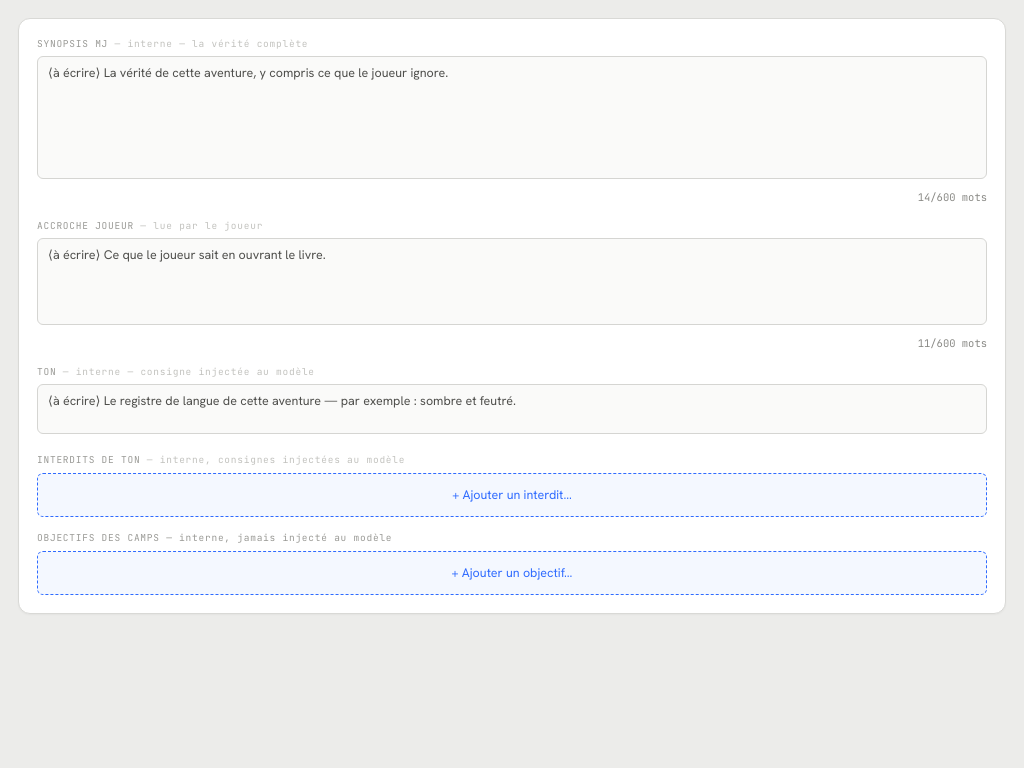
PanneauCanon › synopsis vide puis blur: refus, aucun revert, bandeau affiche
Step 1. Clear the text box labelled "SYNOPSIS MJ — interne — la vérité complète" → (512,117), box [37,56,987,179]
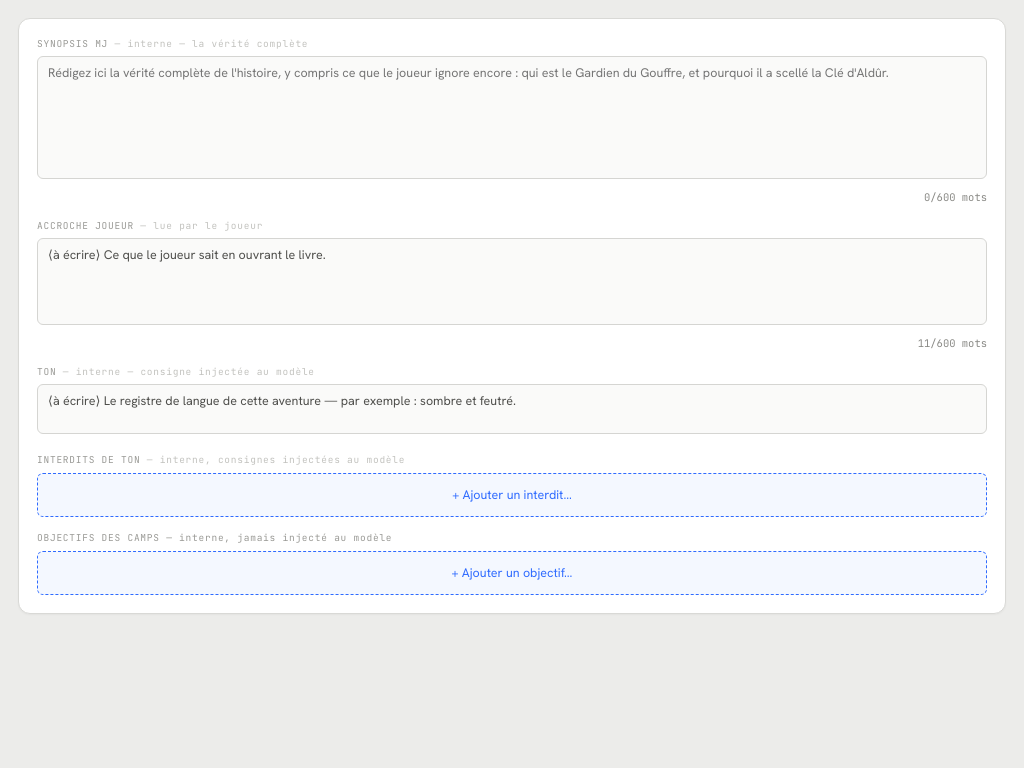
Step 2. Leave the text box labelled "SYNOPSIS MJ — interne — la vérité complète", box [37,56,987,179]
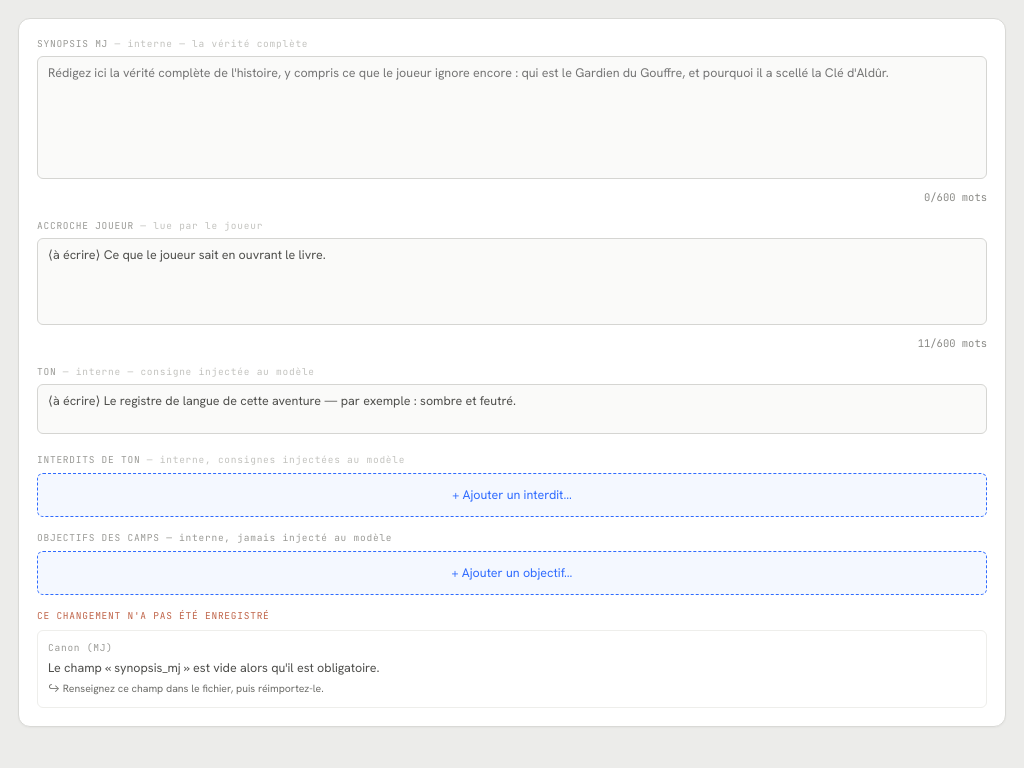
Result: the message shows "CE CHANGEMENT N'A PAS ÉTÉ ENREGISTRÉ" at [37,609,270,622]
Result: the message shows "vide" at [48,659,380,676]
